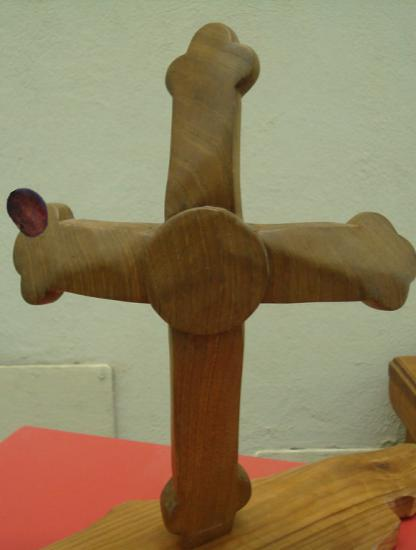Chestnut: (3, 186, 56, 239)
